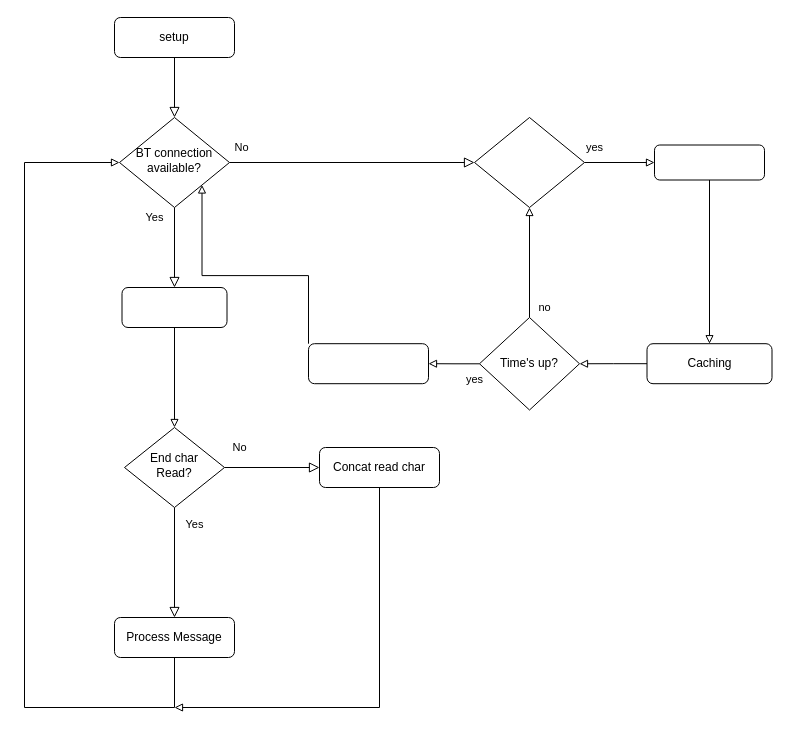
Image size: 790x733. Some labels were removed from this diagram. The shapes that lost their labels are listed below. From the top down, each one's centre as x and y in pixels, then its label:
At [529,162]: "Measure?".
At [709,162]: "Get Values".
At [174,307]: "Read message".
At [368,363]: "Send data".
